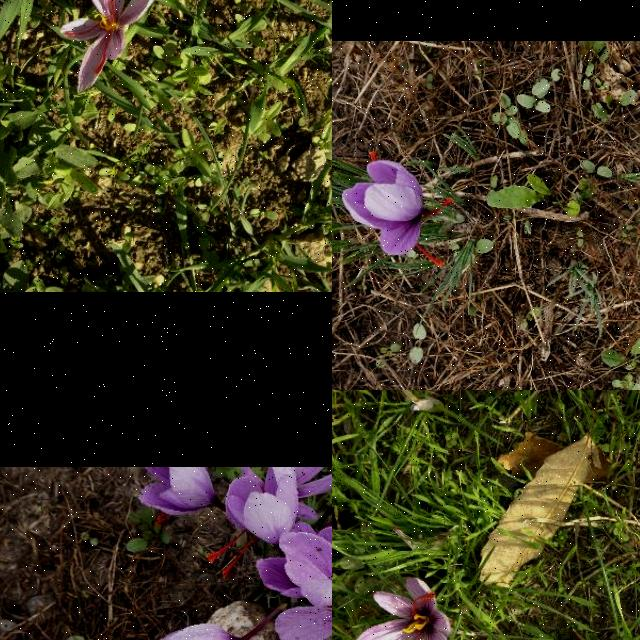flower: (343, 150, 453, 268), (205, 468, 299, 580), (60, 0, 161, 93), (273, 514, 332, 640), (350, 577, 451, 640), (138, 468, 218, 524)
overlap: (239, 467, 332, 640)
